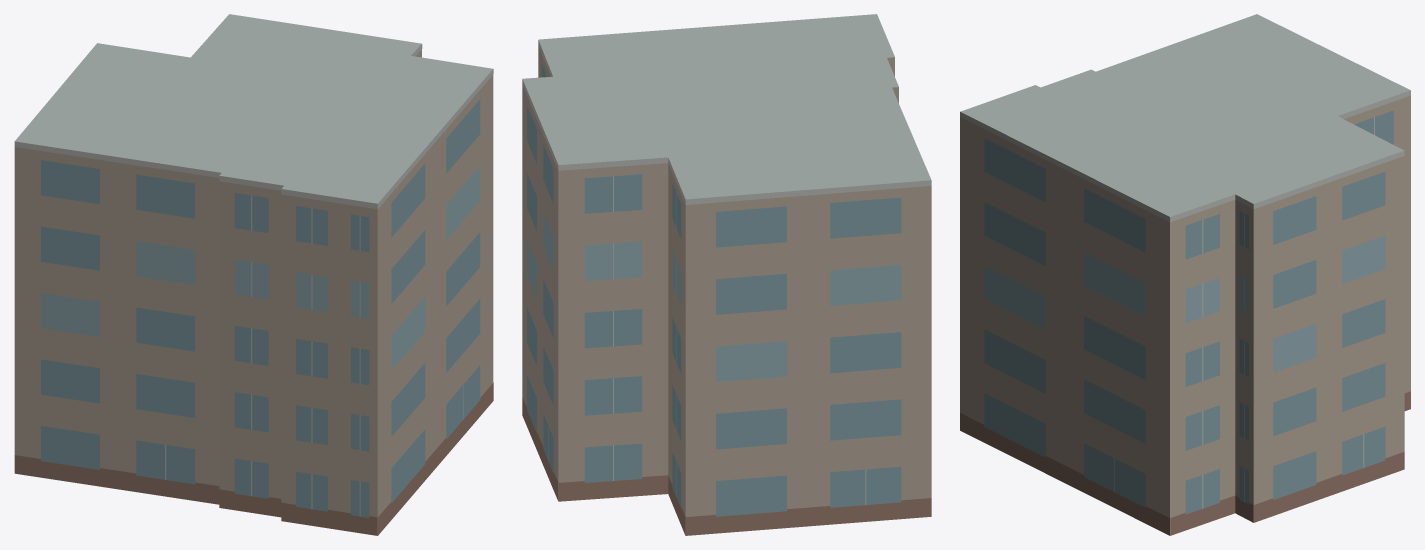
Rendered from survey-upis-32641885.glb.
The picture shows the model from 3 angles, left to right: view 1: azimuth 30°, elevation 25°; view 2: azimuth 150°, elevation 25°; view 3: azimuth 270°, elevation 25°; orthographic projection. The views are drawn at different scales.
Visible parts, largest first — view 1: survey-upis-32641885.tmp; view 2: survey-upis-32641885.tmp; view 3: survey-upis-32641885.tmp.
Part boxes in pixels (<box>): survey-upis-32641885.tmp: <box>14,14,493,535</box>; survey-upis-32641885.tmp: <box>522,14,931,535</box>; survey-upis-32641885.tmp: <box>960,14,1410,535</box>.
Bounding box in the file's own units: 20.09 × 14.7 × 18.84.
